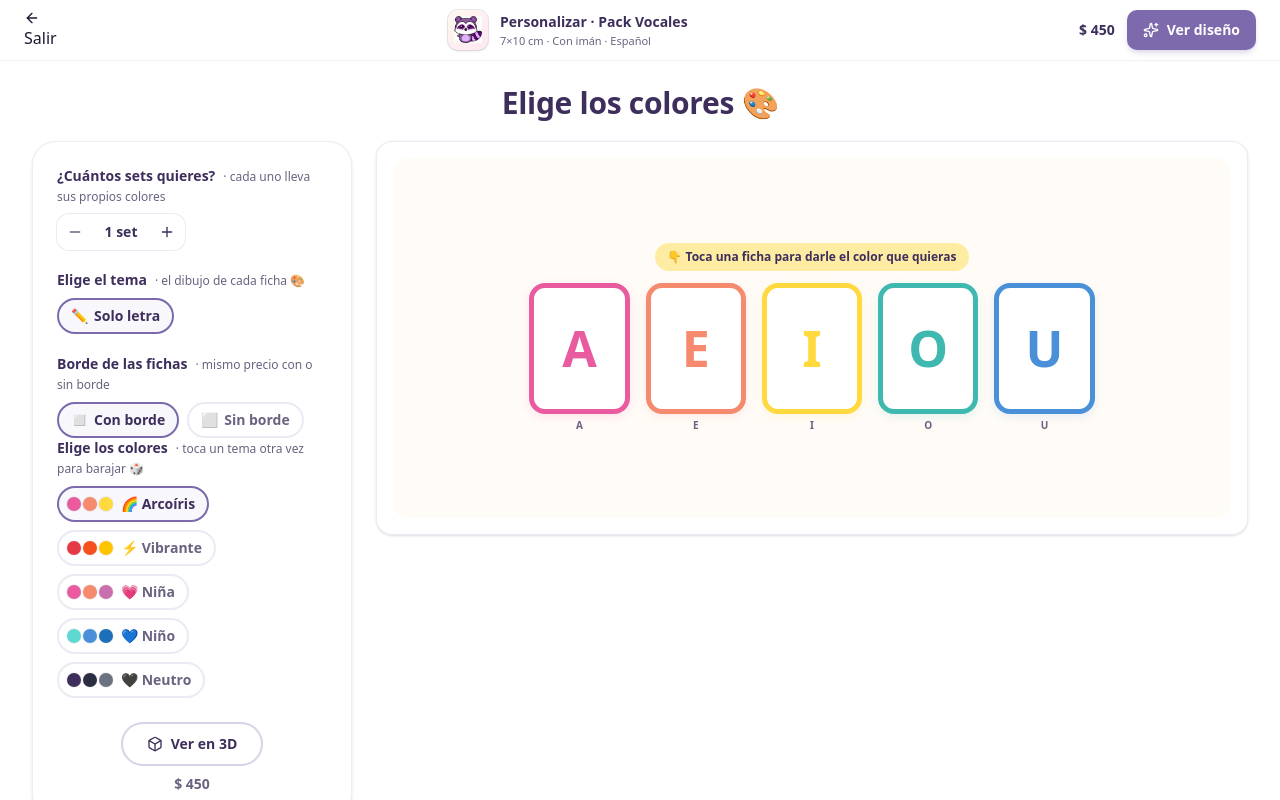
Test case: LetterSetEditor — vista previa antes del carrito (Lucy 2026-07-25) › 'Volver a editar' cierra la vista previa sin haber creado nada
Click the button "Ver diseño": (1191, 30) [1127,10,1256,50]
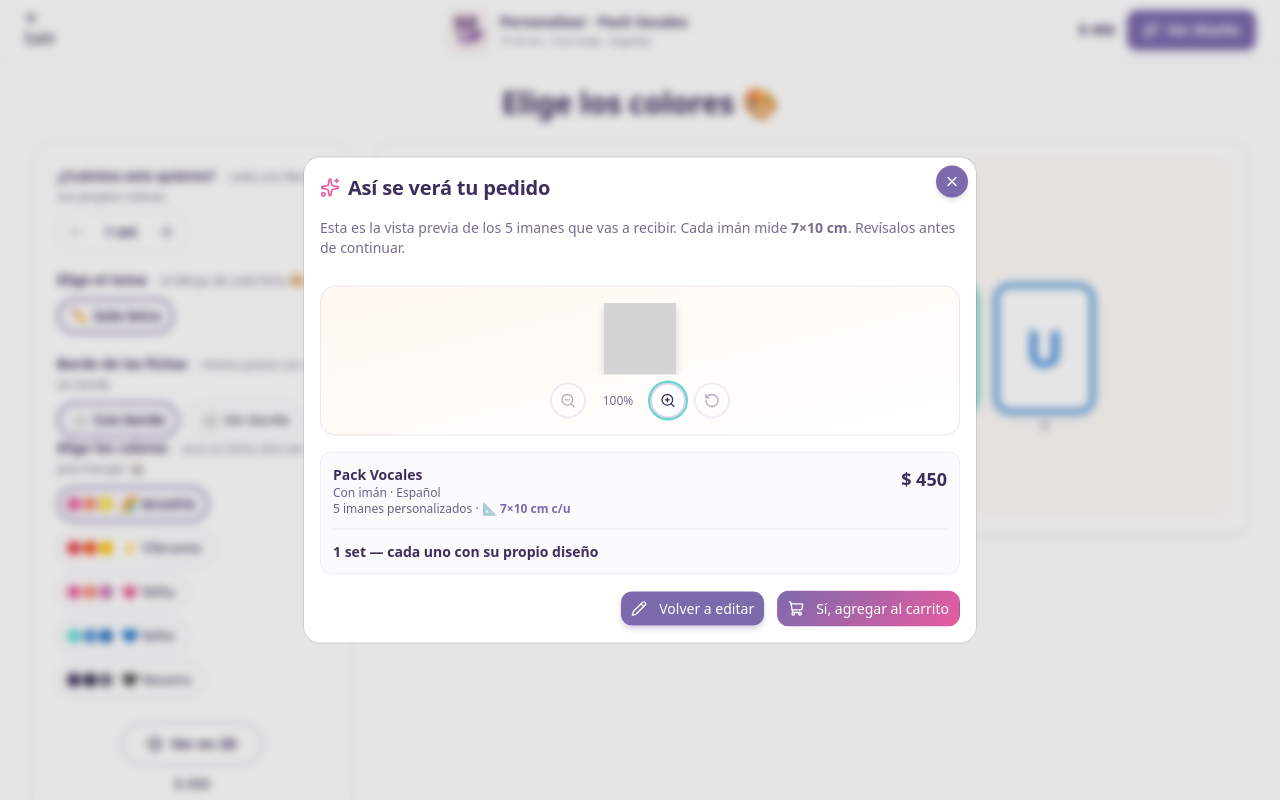
Expected: the heading "Así se verá tu pedido" is shown, [320,174,550,200]
Click the button "Volver a editar": (693, 608) [620,590,765,626]
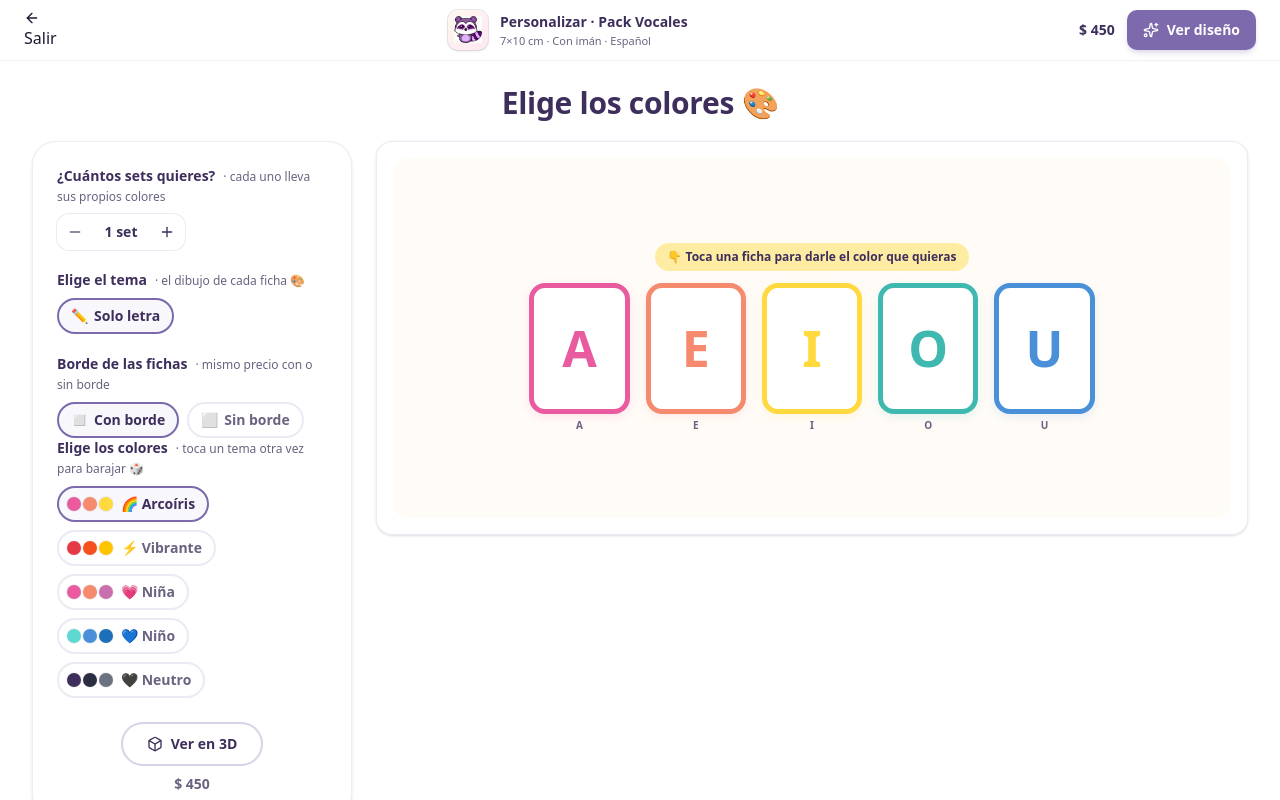
Expected: the heading "Así se verá tu pedido" is gone
